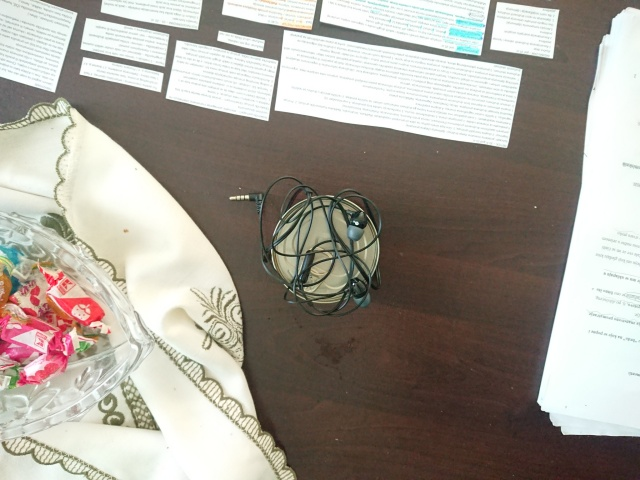Gavrilovic Pork Liver Pate 100g: (268, 192, 383, 306)
